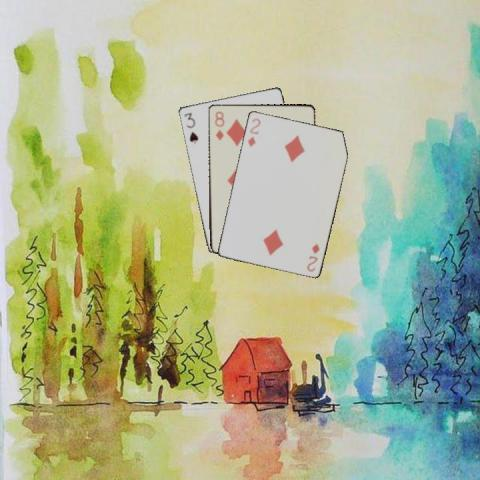2d: (245, 115, 262, 148), (304, 241, 321, 272)
3s: (182, 110, 199, 145)
8d: (212, 108, 225, 142)
